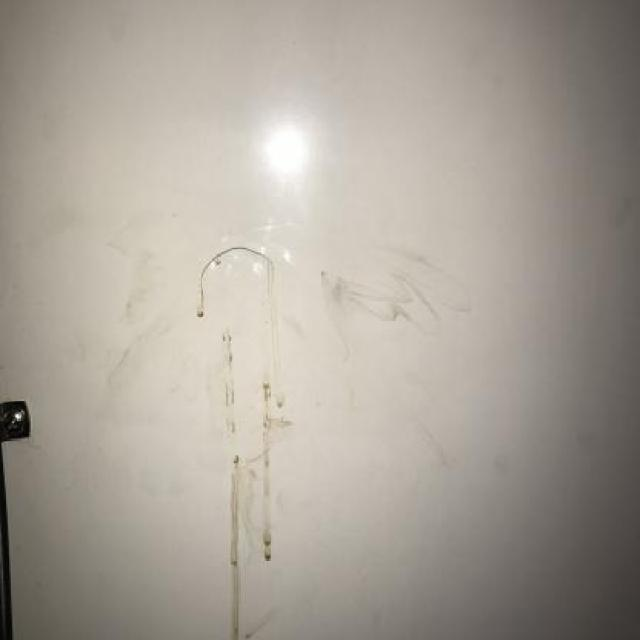crack: (197, 242, 281, 320)
